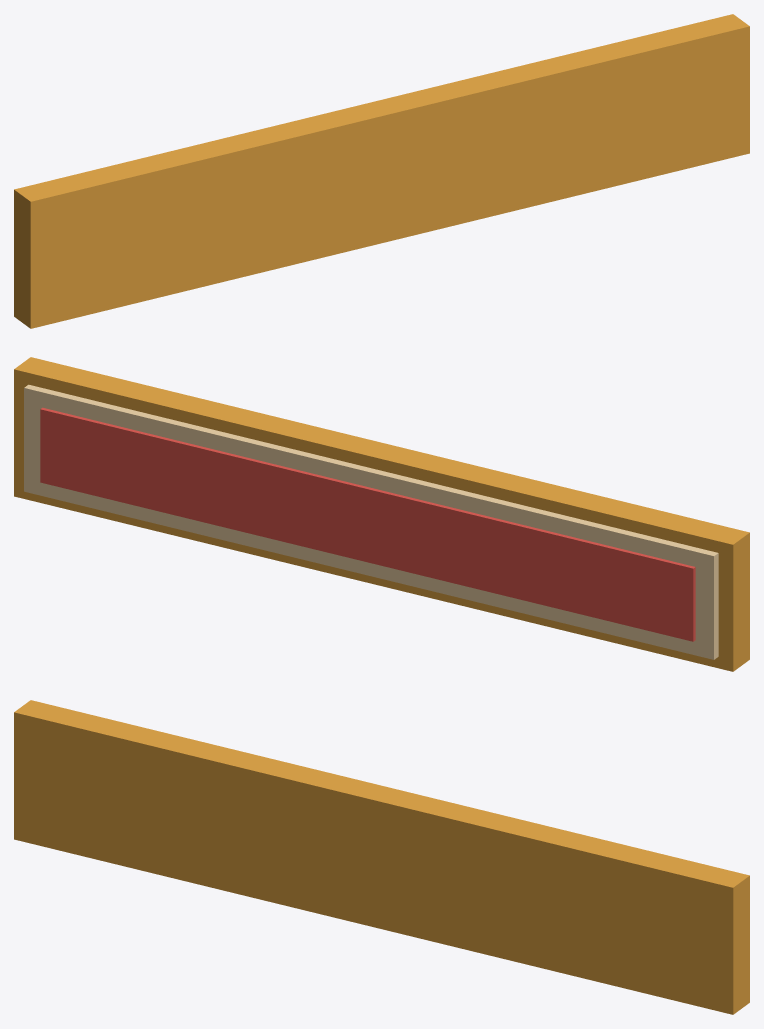
The model's file is ParkParkEntranceSign.obj.
3 renders of one model, top to bottom at view 1: azimuth 30°, elevation 25°; view 2: azimuth 150°, elevation 25°; view 3: azimuth 330°, elevation 25°, orthographic.
Parts seen in each view (by area): view 1: ParkParkEntranceSign; view 2: ParkParkEntranceSign; view 3: ParkParkEntranceSign.
Boxes of the visible parts, x1,y1,x2,y2 form: ParkParkEntranceSign: (14, 14, 749, 328); ParkParkEntranceSign: (14, 357, 749, 671); ParkParkEntranceSign: (14, 700, 749, 1014).
Bounding box in the file's own units: 7.4 × 1.25 × 0.42.
3 materials, 3 textured.
